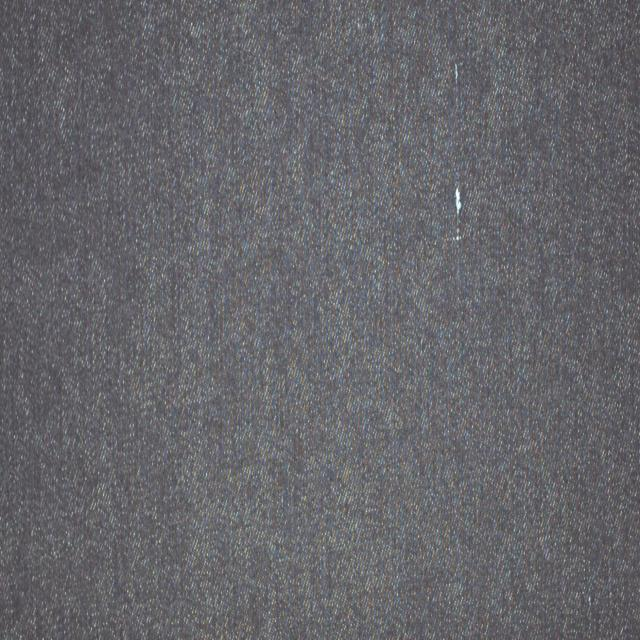Knot: (455, 185, 463, 240)
